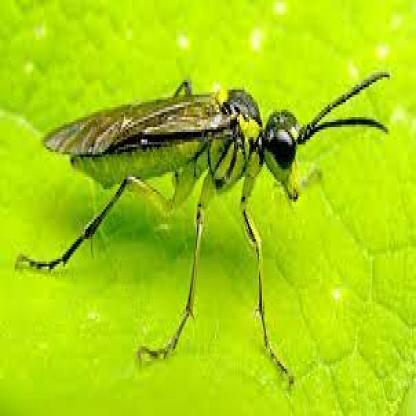sawfly: (16, 67, 396, 397)
